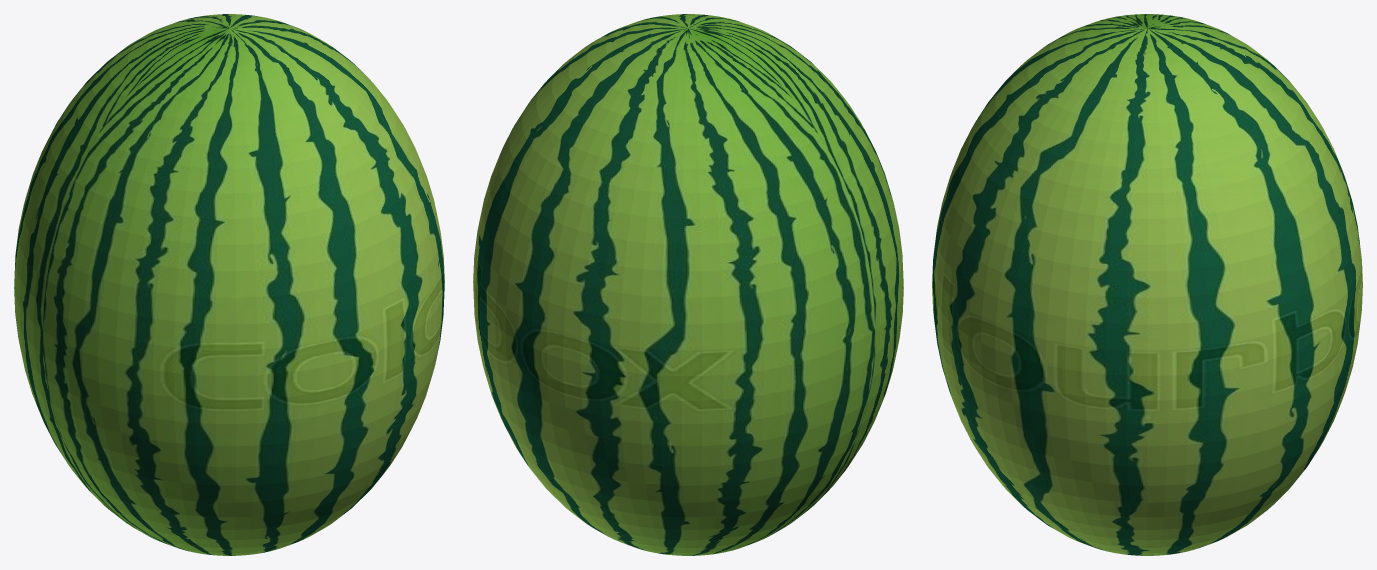
Rendered from watermelon.fbx.
The picture shows the model from 3 angles, left to right: view 1: azimuth 30°, elevation 25°; view 2: azimuth 150°, elevation 25°; view 3: azimuth 270°, elevation 25°; orthographic projection.
Parts seen in each view (by area): view 1: Sphere; view 2: Sphere; view 3: Sphere.
Boxes of the visible parts, x1=… form: Sphere: x1=14, y1=14, x2=444, y2=555; Sphere: x1=473, y1=14, x2=903, y2=555; Sphere: x1=932, y1=14, x2=1362, y2=555.
Size of the model in its own units: 197 by 259 by 197.
1 material, 1 textured.
